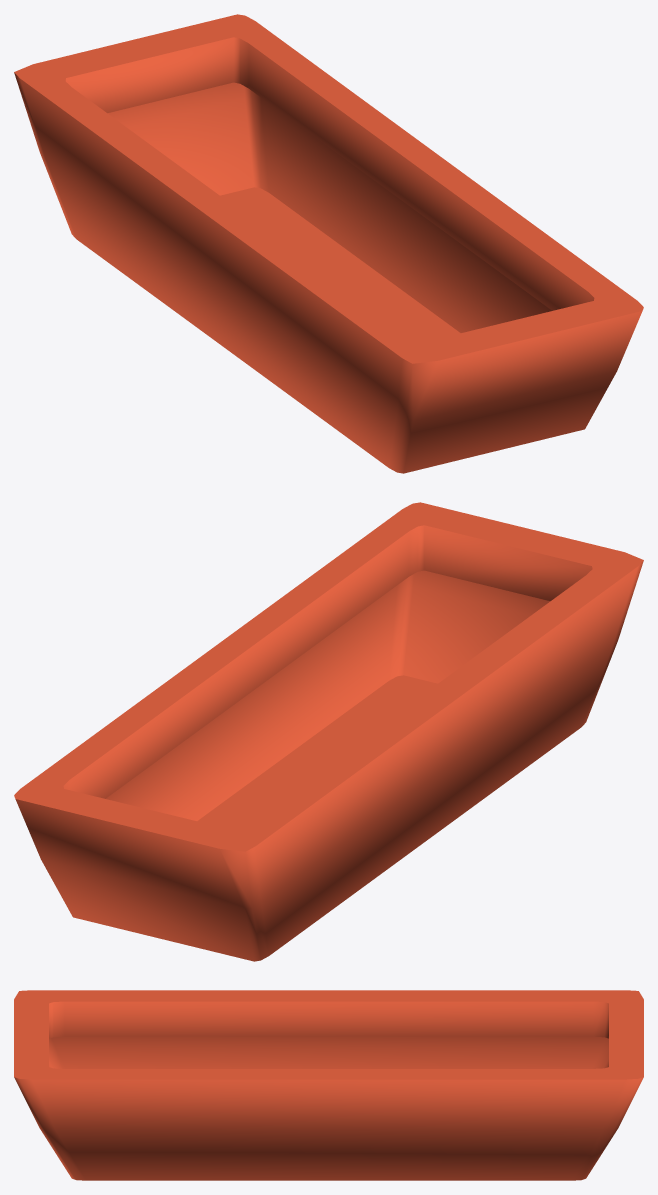
The model's file is Pasu.fbx.
The picture shows the model from 3 angles, top to bottom: view 1: azimuth 30°, elevation 25°; view 2: azimuth 150°, elevation 25°; view 3: azimuth 270°, elevation 25°; orthographic projection. The views are drawn at different scales.
Visible parts, largest first — view 1: Cube.001; view 2: Cube.001; view 3: Cube.001.
Boxes of the visible parts, x1,y1,x2,y2 form: Cube.001: (14, 14, 643, 473); Cube.001: (14, 502, 643, 961); Cube.001: (14, 990, 643, 1180).
Size of the model in its own units: 312 by 178 by 930.
